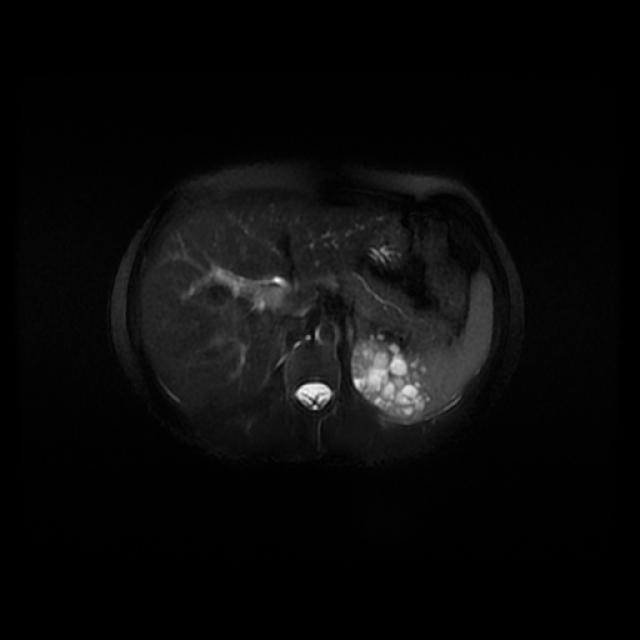sol: (351, 336, 429, 419)
